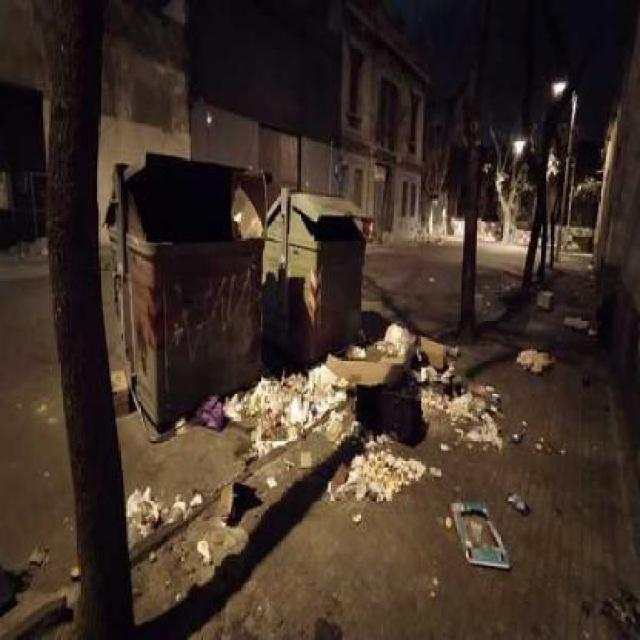garbage: (185, 366, 532, 584), (371, 311, 528, 506), (21, 499, 264, 594), (445, 466, 540, 597), (537, 274, 612, 374), (518, 354, 576, 447)
